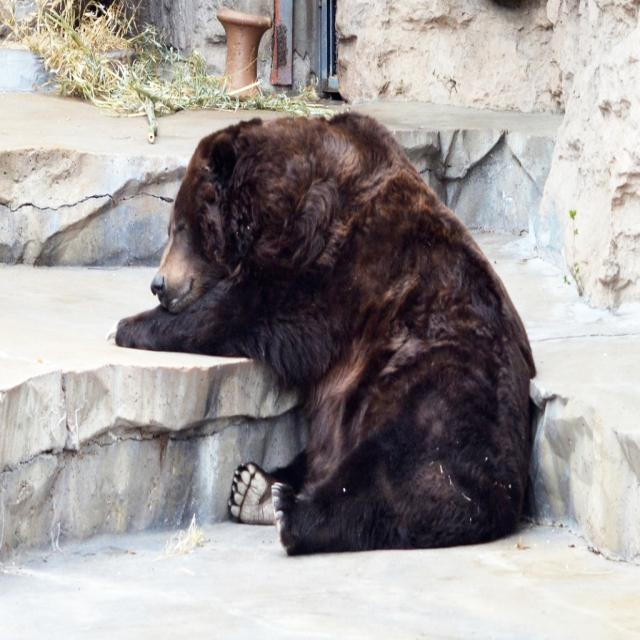Cheetahs: (104, 114, 537, 558)
